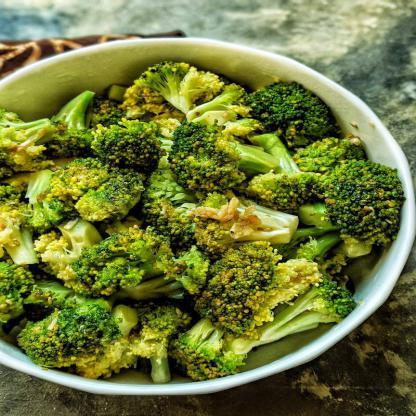broccoli: (0, 61, 405, 387)
